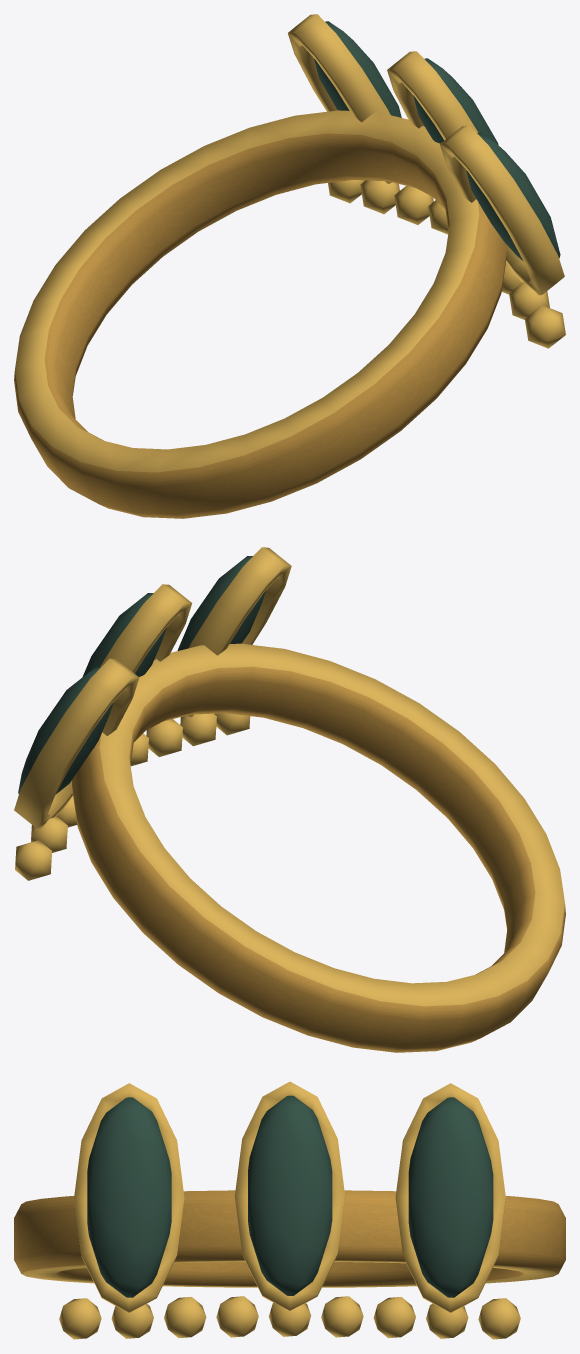
The model's file is item_ring8.glb.
3 renders of one model, top to bottom at view 1: azimuth 30°, elevation 25°; view 2: azimuth 150°, elevation 25°; view 3: azimuth 270°, elevation 25°, orthographic. The views are drawn at different scales.
Visible parts, largest first — view 1: jewellery_ring8; view 2: jewellery_ring8; view 3: jewellery_ring8.
Part boxes in pixels (x1=…): jewellery_ring8: x1=14, y1=14, x2=565, y2=518; jewellery_ring8: x1=14, y1=547, x2=565, y2=1052; jewellery_ring8: x1=14, y1=1081, x2=565, y2=1339.
Bounding box in the file's own units: 0.7898 × 0.6008 × 0.79.
Materials: 3 (1 with a texture image).
